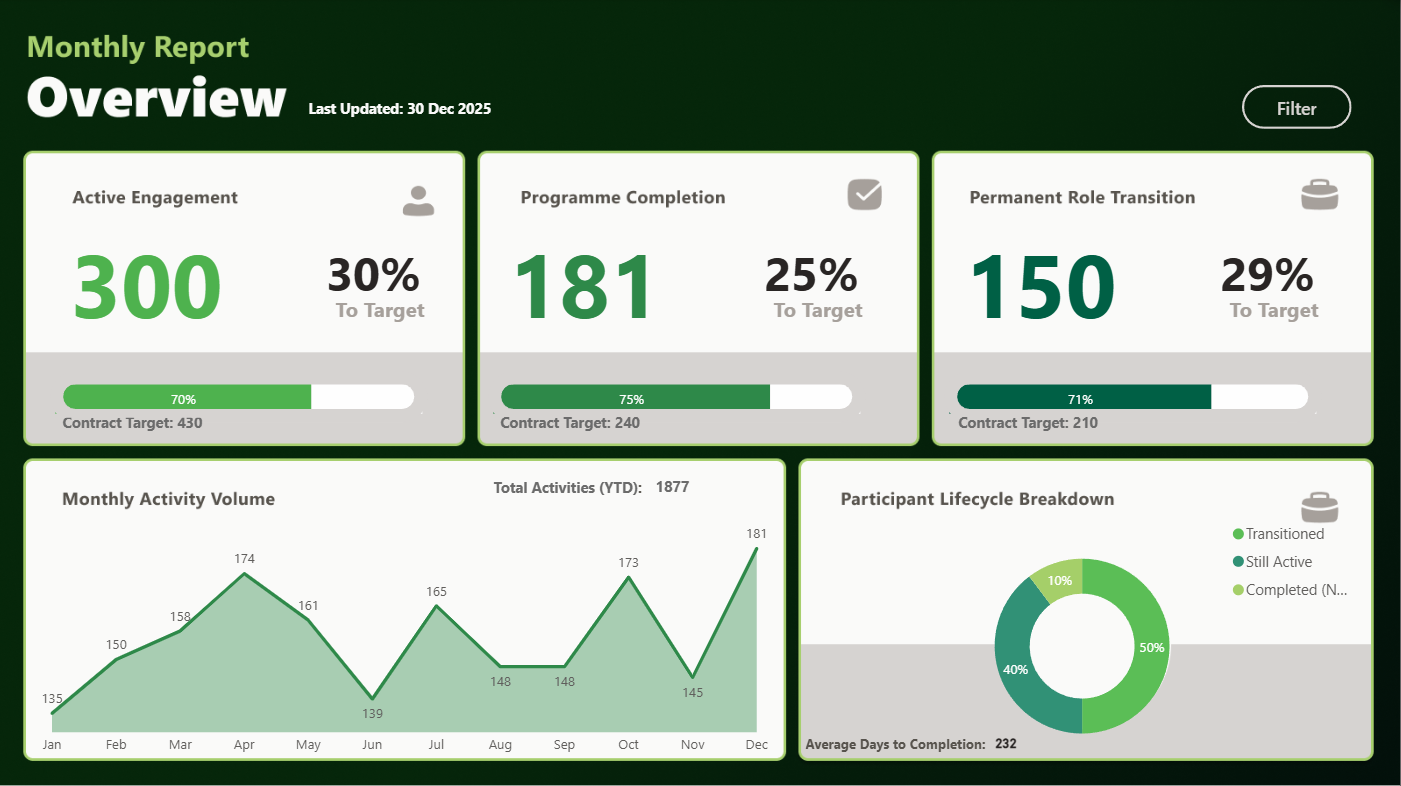

The page's visual inventory and layout, read from the dashboard file:
{"tool":"powerbi","page":{"name":"Overview","canvas":[1280,720],"ordinal":0},"visuals":[{"type":"group","id":"g1","title":"KPI1 Block","box":[48,208,367.1,208],"z":0},{"type":"card","fields":{"Values":["_Measures.Active Engagement"]},"box":[48,208,176,96],"z":0,"group":"g1"},{"type":"card","fields":{"Values":["_Measures.Programme Completions"]},"box":[448,208,176,96],"z":0,"group":"g2"},{"type":"card","fields":{"Values":["_Measures.Permanent Role Transitions"]},"box":[864,208,176,96],"z":0,"group":"g6"},{"type":"hundredPercentStackedBarChart","fields":{"Category":["kpi_targets_2025.KPI_ID"],"Y":["_Measures.KPI % Achieved","_Measures.KPI % To Target (Remaining)"]},"box":[48,304,344.7,118.1],"z":0,"group":"g3"},{"type":"hundredPercentStackedBarChart","fields":{"Category":["kpi_targets_2025.KPI_ID"],"Y":["_Measures.KPI % Achieved","_Measures.KPI % To Target (Remaining)"]},"box":[448,304,344.7,118.1],"z":0,"group":"g4"},{"type":"hundredPercentStackedBarChart","fields":{"Category":["kpi_targets_2025.KPI_ID"],"Y":["_Measures.KPI % Achieved","_Measures.KPI % To Target (Remaining)"]},"box":[864,304,344.7,118.1],"z":0,"group":"g5"},{"type":"donutChart","fields":{"Category":["participant_lifecycle_stage.Lifecycle Stage"],"Y":["_Measures.Lifecycle Stage Value"]},"box":[848.8,470.7,400,241.1],"z":0,"group":"g7"},{"type":"group","id":"g2","title":"KPI2 Block","box":[448,208,367.1,224],"z":1000},{"type":"group","id":"g3","title":"KPI1_Progress","box":[48,304,352,112],"z":1000,"group":"g1"},{"type":"group","id":"g4","title":"KPI2_Progress","box":[448,304,352,128],"z":1000,"group":"g2"},{"type":"group","id":"g5","title":"KPI1_Progress","box":[864,304,352,112],"z":1000,"group":"g6"},{"type":"shape","box":[48.1,340.8,344.3,46.7],"z":1000,"group":"g3"},{"type":"shape","box":[448.1,340.8,344.3,46.7],"z":1000,"group":"g4"},{"type":"shape","box":[864.1,340.8,344.3,46.7],"z":1000,"group":"g5"},{"type":"card","fields":{"Values":["_Measures.Avg Days to Completion"]},"box":[900.7,666,40,32],"z":1000,"group":"g7"},{"type":"group","id":"g6","title":"KPI3 Block","box":[864,208,367.1,208],"z":2000},{"type":"card","title":"To Target","fields":{"Values":["_Measures.KPI % To Target (Remaining)"]},"box":[287.1,218.3,112,64],"z":2000,"group":"g1"},{"type":"card","title":"To Target","fields":{"Values":["_Measures.KPI % To Target (Remaining)"]},"box":[687.1,218.3,112,64],"z":2000,"group":"g2"},{"type":"card","title":"To Target","fields":{"Values":["_Measures.KPI % To Target (Remaining)"]},"box":[1103.1,218.3,112,64],"z":2000,"group":"g6"},{"type":"textbox","box":[732.7,666,192,32],"z":2000,"group":"g7"},{"type":"textbox","box":[303.1,266.3,112,48],"z":3000,"group":"g1"},{"type":"textbox","box":[703.1,266.3,112,48],"z":3000,"group":"g2"},{"type":"textbox","box":[1119.1,266.3,112,48],"z":3000,"group":"g6"},{"type":"areaChart","fields":{"Y":["CountNonNull(engagement_activities.Outcome)"],"Category":["Date.Month"]},"box":[22.2,458.7,699.6,240],"z":3000},{"type":"textbox","box":[448,432,160,32],"z":4000},{"type":"group","id":"g7","title":"Lifestyle Breadown","box":[732.7,470.7,516.1,241.1],"z":5000},{"type":"card","fields":{"Values":["_Measures.Total Activities YTD"]},"box":[592,432,48,32],"z":6000},{"type":"card","fields":{"Values":["_Measures.Last Updated Display"]},"box":[272.3,86.6,189.7,32.1],"z":7000},{"type":"card","fields":{"Values":["_Measures.KPI Target Display (Count)"]},"box":[48.4,374.7,150.5,24.2],"z":8000},{"type":"card","fields":{"Values":["_Measures.KPI Target Display (Count)"]},"box":[448.4,374.5,149.8,24.3],"z":9000},{"type":"card","fields":{"Values":["_Measures.KPI Target Display (Count)"]},"box":[865.7,374.5,149.8,24.3],"z":10000},{"type":"actionButton","title":"Filter","box":[1136,79,100,40],"z":12000}]}

Visuals, with their boxes in screenshot pixels (x1, y1, x2, y2), scaled from the page's 1280x720 canvas onto the 1401x786 screenshot:
"KPI1 Block" group: crop(53, 227, 454, 454)
card - _Measures.Active Engagement: crop(53, 227, 245, 332)
card - _Measures.Programme Completions: crop(490, 227, 683, 332)
card - _Measures.Permanent Role Transitions: crop(946, 227, 1138, 332)
hundredPercentStackedBarChart - kpi_targets_2025.KPI_ID x _Measures.KPI % Achieved: crop(53, 332, 430, 461)
hundredPercentStackedBarChart - kpi_targets_2025.KPI_ID x _Measures.KPI % Achieved: crop(490, 332, 868, 461)
hundredPercentStackedBarChart - kpi_targets_2025.KPI_ID x _Measures.KPI % Achieved: crop(946, 332, 1323, 461)
donutChart - participant_lifecycle_stage.Lifecycle Stage x _Measures.Lifecycle Stage Value: crop(929, 514, 1367, 777)
"KPI2 Block" group: crop(490, 227, 892, 472)
"KPI1_Progress" group: crop(53, 332, 438, 454)
"KPI2_Progress" group: crop(490, 332, 876, 472)
"KPI1_Progress" group: crop(946, 332, 1331, 454)
shape: crop(53, 372, 429, 423)
shape: crop(490, 372, 867, 423)
shape: crop(946, 372, 1323, 423)
card - _Measures.Avg Days to Completion: crop(986, 727, 1030, 762)
"KPI3 Block" group: crop(946, 227, 1347, 454)
"To Target" card: crop(314, 238, 437, 308)
"To Target" card: crop(752, 238, 875, 308)
"To Target" card: crop(1207, 238, 1330, 308)
textbox: crop(802, 727, 1012, 762)
textbox: crop(332, 291, 454, 343)
textbox: crop(770, 291, 892, 343)
textbox: crop(1225, 291, 1347, 343)
areaChart - CountNonNull(engagement_activities.Outcome) x Date.Month: crop(24, 501, 790, 763)
textbox: crop(490, 472, 665, 507)
"Lifestyle Breadown" group: crop(802, 514, 1367, 777)
card - _Measures.Total Activities YTD: crop(648, 472, 700, 507)
card - _Measures.Last Updated Display: crop(298, 95, 506, 130)
card - _Measures.KPI Target Display (Count): crop(53, 409, 218, 435)
card - _Measures.KPI Target Display (Count): crop(491, 409, 655, 435)
card - _Measures.KPI Target Display (Count): crop(948, 409, 1111, 435)
"Filter" actionButton: crop(1243, 86, 1353, 130)
